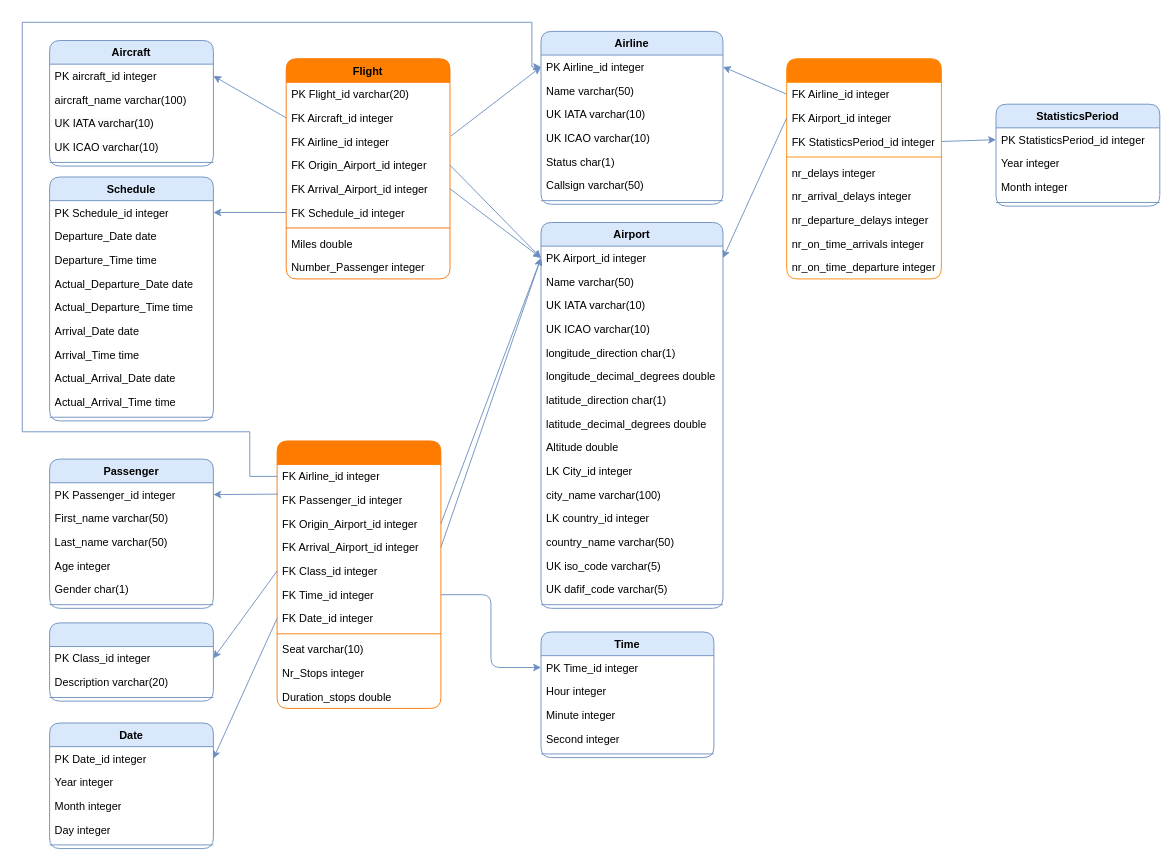
Some shapes in this 1176 by 865 pixel diagram are drawn without their labels. The box of each missing label's shape, as (x1, y1, x2, y2) in pixels:
Booking: (276, 440, 441, 708)
Flight_Class: (49, 622, 213, 701)
Flight_Statistics: (786, 58, 941, 279)
